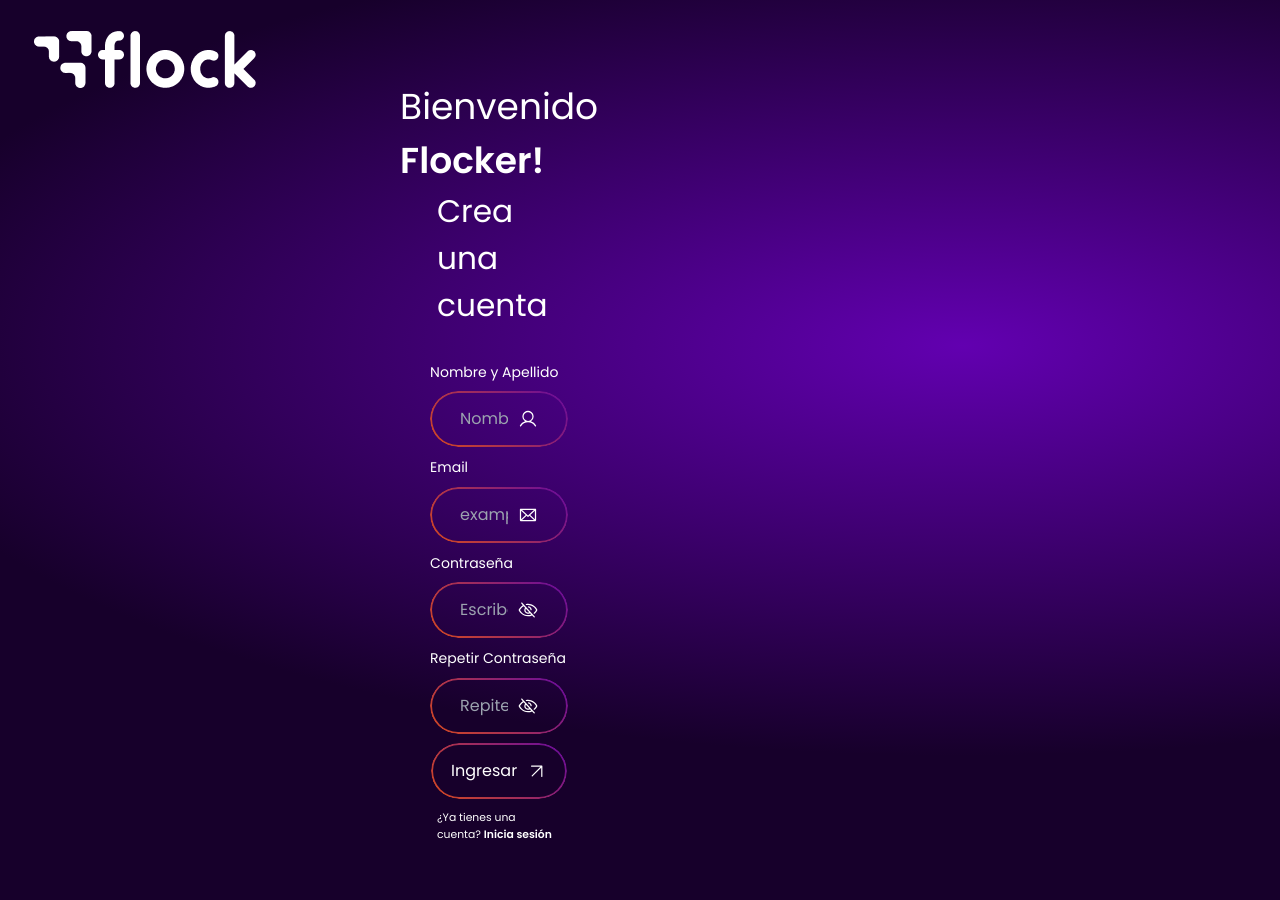
Test: SignUp component › No puede enviar el formulario con errores visibles
The width and height of the screenshot is (1280, 900).
// Contraseña no coincide con "Repetir Contraseña"
Type "Password1" into the password field with placeholder "Escribe tu contraseña" at [484, 610], box x1=460 y1=598 x2=508 y2=622
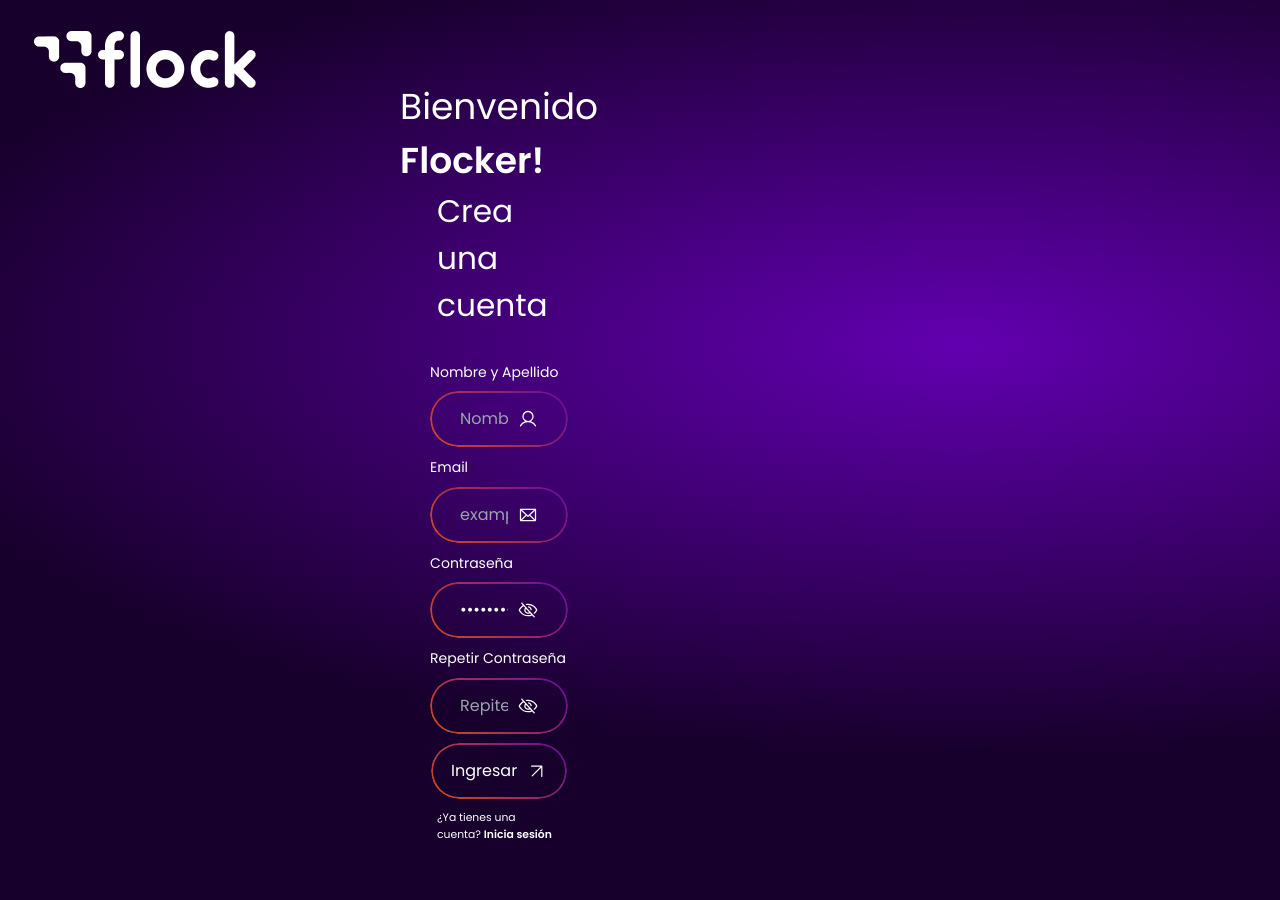
Type "WrongPassword" into the password field with placeholder "Repite tu contraseña" at [484, 706], box x1=460 y1=694 x2=508 y2=718
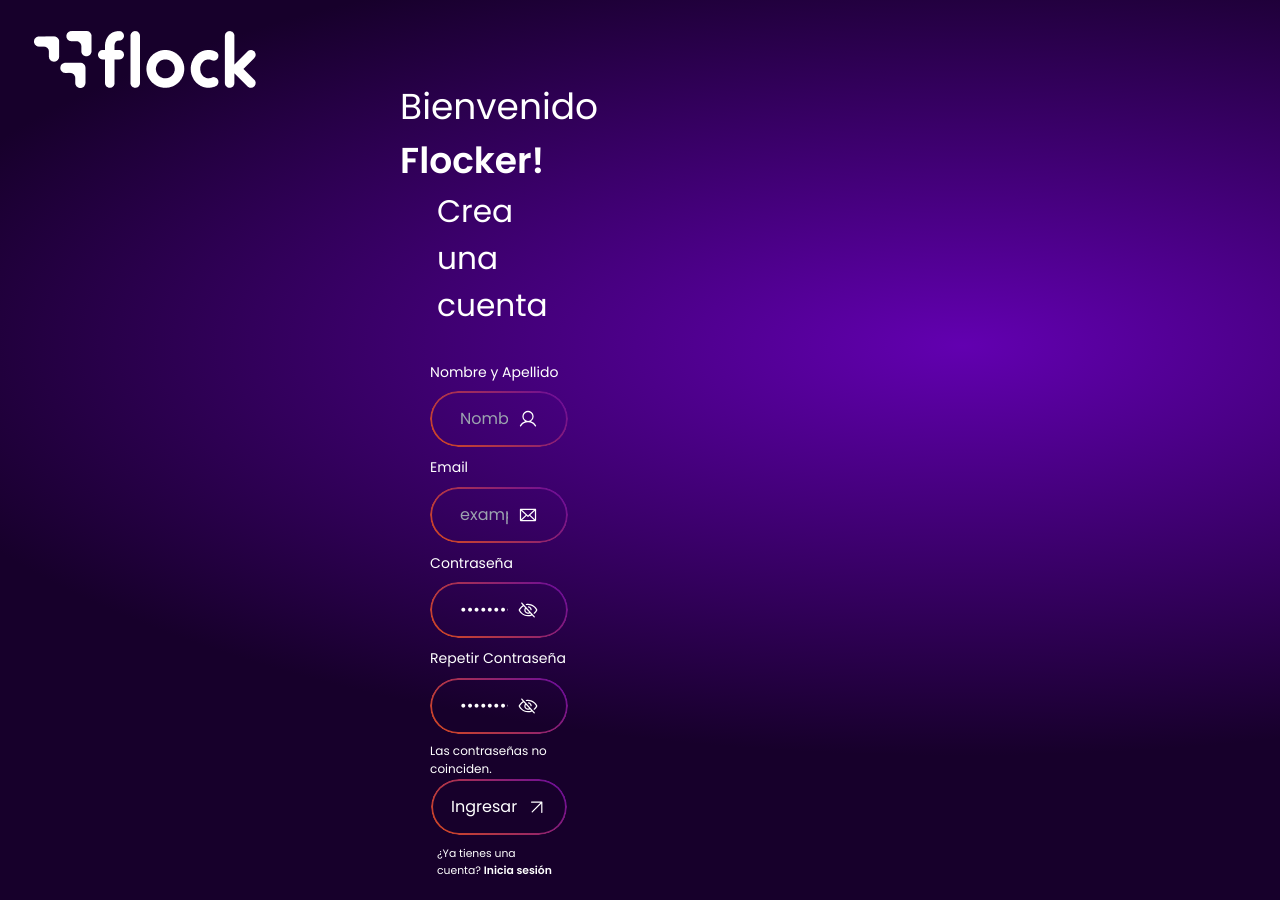
Expected: the button "Ingresar" is disabled, x1=430 y1=778 x2=568 y2=836
Now the text "Las contraseñas no coinciden." is shown, box x1=430 y1=742 x2=547 y2=777
